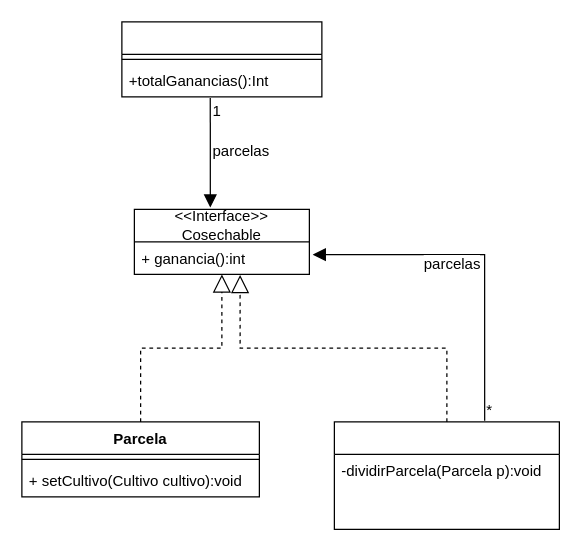
The diagram is 581 pixels wide and 555 high, and some of its shapes have lost their labels. The box of each missing label's shape, as (x1, y1, x2, y2) in pixels:
ParcleaDividida: (333, 421, 559, 529)
Region: (121, 21, 322, 97)
